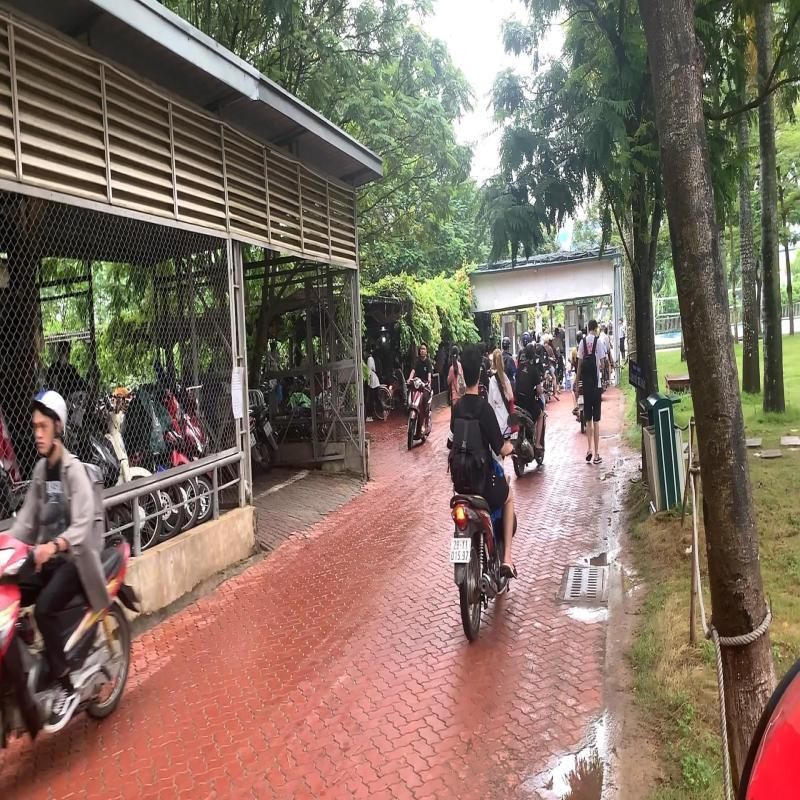licenseplate: (449, 536, 470, 564)
motorcyclist: (444, 338, 522, 644)
nohelmet: (461, 343, 482, 393)
